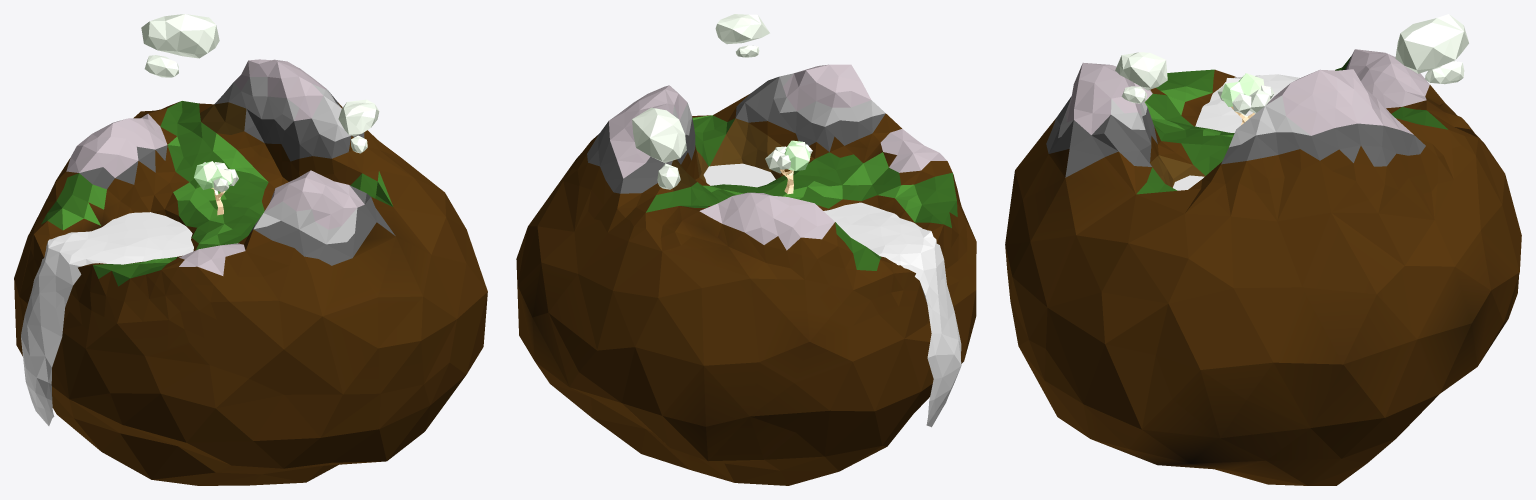
Rendered from insel6.glb.
3 views of the same model, side by side, from view 1: azimuth 30°, elevation 25°; view 2: azimuth 150°, elevation 25°; view 3: azimuth 270°, elevation 25° (orthographic). The views are drawn at different scales.
Parts seen in each view (by area): view 1: Island, Water, Cloud.002, Cloud.004, Cloud.001; view 2: Island, Water, Cloud.002, Cloud.004; view 3: Island, Cloud.002, Water, Cloud.004, Cloud.001.
Part boxes in pixels (box(x1,y1,x2,y2)): Island: box(14, 59, 487, 485); Water: box(21, 212, 193, 425); Cloud.002: box(141, 14, 219, 58); Cloud.004: box(338, 99, 379, 136); Cloud.001: box(144, 55, 178, 77); Island: box(516, 64, 976, 485); Water: box(703, 163, 961, 427); Cloud.002: box(632, 107, 686, 162); Cloud.004: box(715, 14, 769, 44); Island: box(1005, 49, 1521, 485); Cloud.002: box(1395, 14, 1468, 73); Water: box(1173, 74, 1299, 190); Cloud.004: box(1115, 52, 1167, 90); Cloud.001: box(1425, 61, 1464, 84).
Size of the model in its own units: 20.36 by 18.59 by 19.76.
